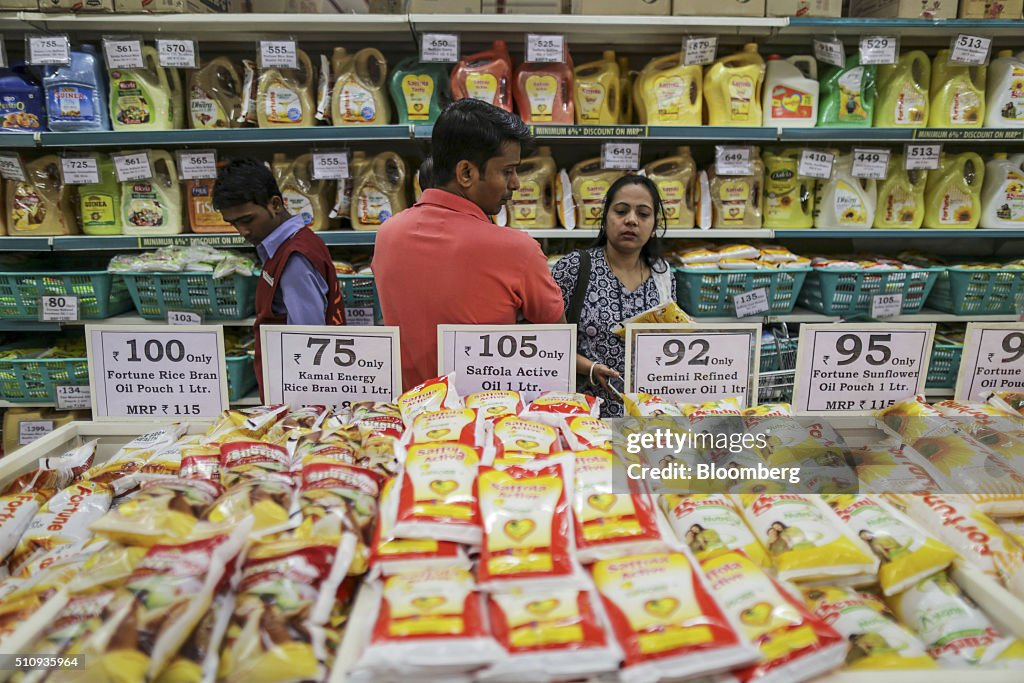saffola: (228, 323, 666, 682), (391, 41, 704, 130), (481, 125, 630, 279)
